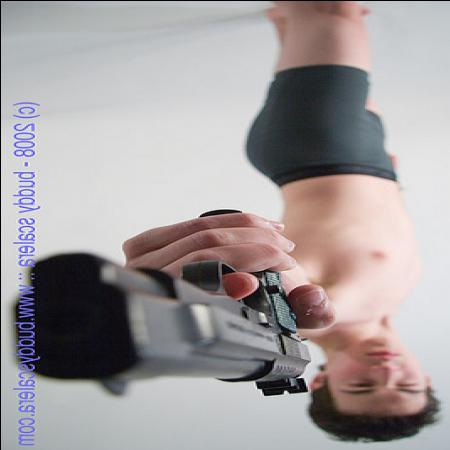Pistol: (9, 203, 305, 397)
